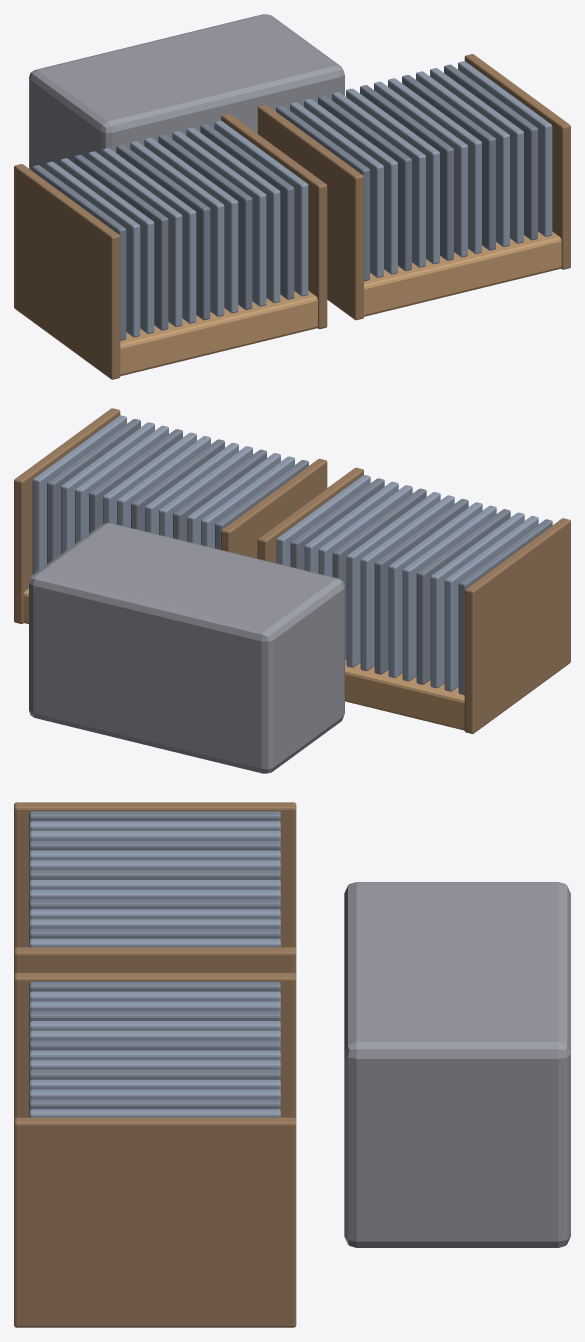
The model's file is slate_stack.fbx.
3 renders of one model, top to bottom at view 1: azimuth 30°, elevation 25°; view 2: azimuth 150°, elevation 25°; view 3: azimuth 270°, elevation 25°, orthographic. The views are drawn at different scales.
Parts seen in each view (by area): view 1: Visual; view 2: Visual; view 3: Visual.
Part boxes in pixels (left/top/right/bottom): Visual: left=14, top=14, right=570, bottom=379; Visual: left=14, top=408, right=570, bottom=773; Visual: left=14, top=802, right=570, bottom=1327.
Size of what is drawn, in the model's own units: 302 by 90 by 221.
